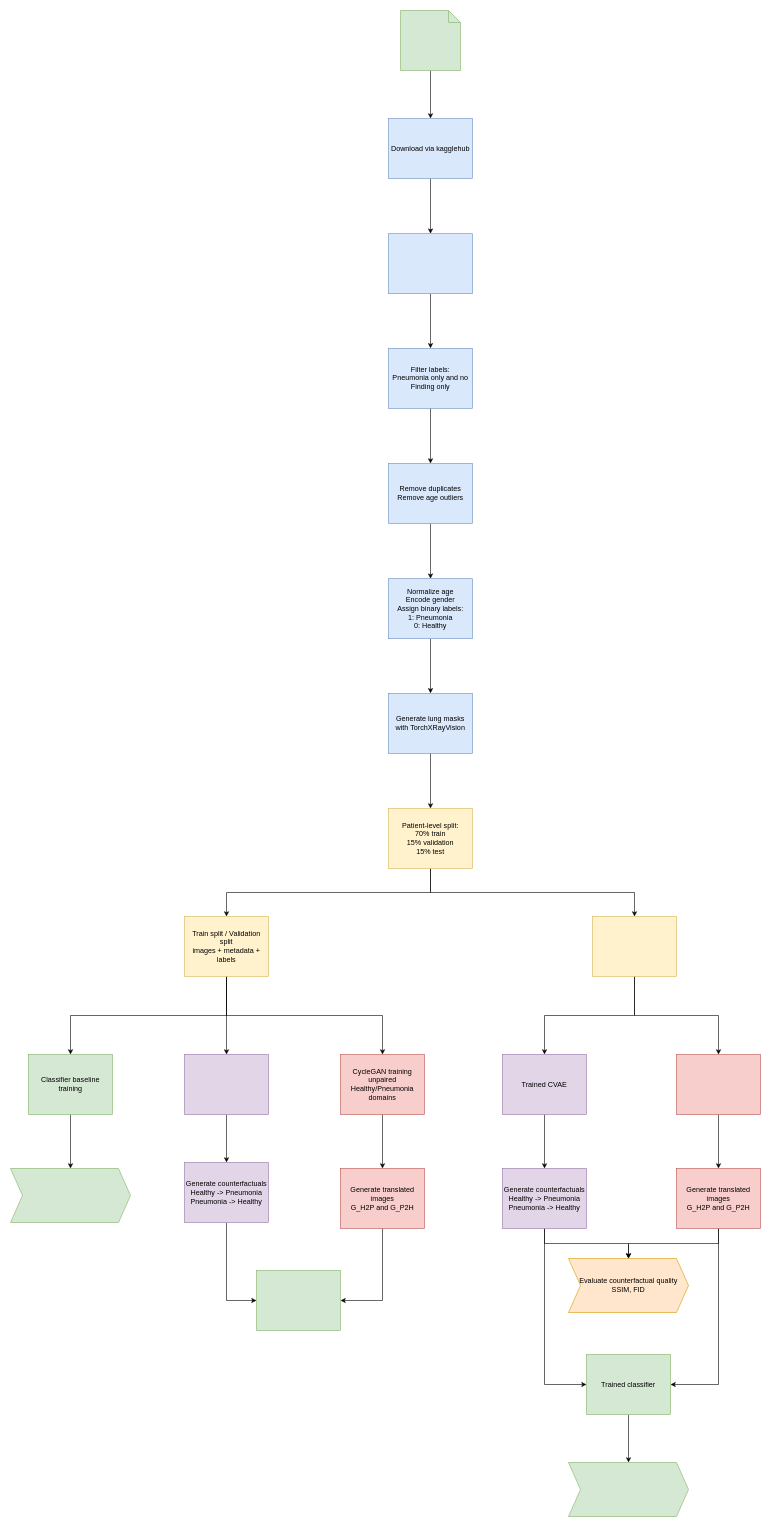
This 771x1527 diagram has some shape labels left out. Each missing label, with the box of its shape:
Classifier training counterfactual data augmentation: (256, 1270, 340, 1330)
CVAE training images + lung mask + labels + metadata: (184, 1054, 268, 1114)
Flip Rate/Confidence Change: (568, 1462, 688, 1516)
Load metadata and image paths: (388, 233, 472, 294)
Metrics results AUC/ACC/Confusion matrix: (10, 1168, 130, 1222)
Raw NIH Chest X-ray dataset: (400, 10, 460, 70)
Test split images + metadata + labels: (592, 916, 676, 976)
Trained CycleGAN: (676, 1054, 760, 1114)
